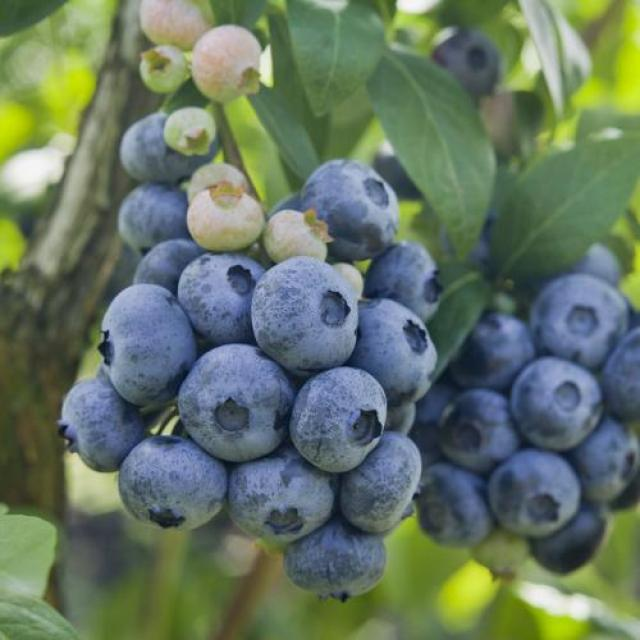BlueBerry - v1: (165, 338, 301, 466), (98, 420, 236, 539), (242, 253, 367, 375), (217, 439, 347, 553), (96, 283, 206, 417), (300, 150, 407, 264), (283, 361, 389, 475), (353, 286, 452, 406), (276, 513, 394, 608), (478, 436, 588, 534), (54, 374, 157, 477), (169, 247, 273, 349), (337, 424, 431, 535), (504, 351, 607, 452), (528, 273, 634, 367), (361, 230, 454, 329), (118, 110, 228, 193), (407, 452, 497, 552), (448, 306, 539, 398), (435, 386, 522, 474), (182, 178, 270, 262), (524, 495, 606, 584), (425, 23, 509, 109), (187, 20, 269, 106), (115, 177, 208, 251), (573, 411, 640, 507), (253, 200, 339, 272), (133, 0, 223, 58), (132, 233, 208, 292), (600, 320, 640, 424), (130, 38, 194, 100), (160, 101, 221, 156), (181, 157, 247, 205)
